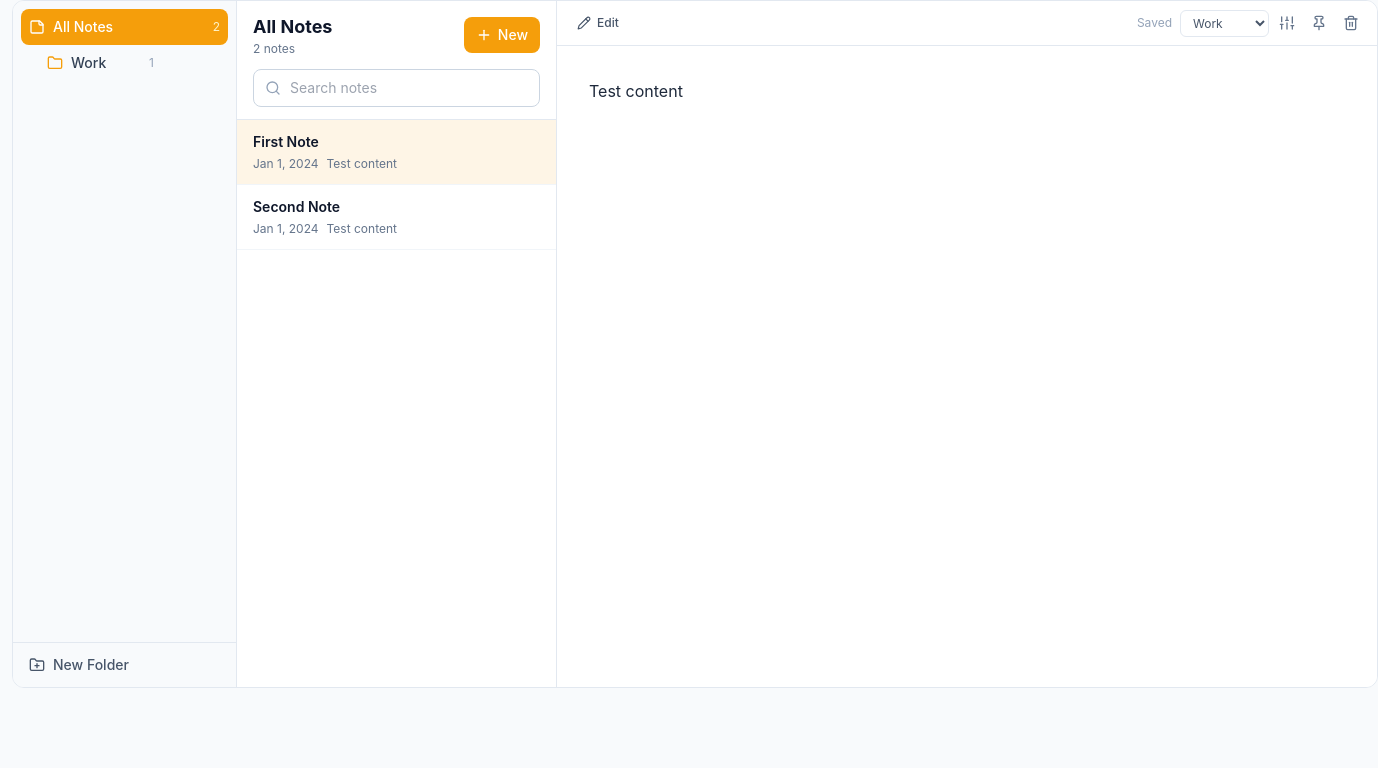
Test case: Notes page › should show only the notes in the selected folder
The image size is (1378, 768).
Expected: the text "First Note" is shown, [253,133,319,150]
Click the button "Work".
click(96, 63)  # box [47,47,145,79]
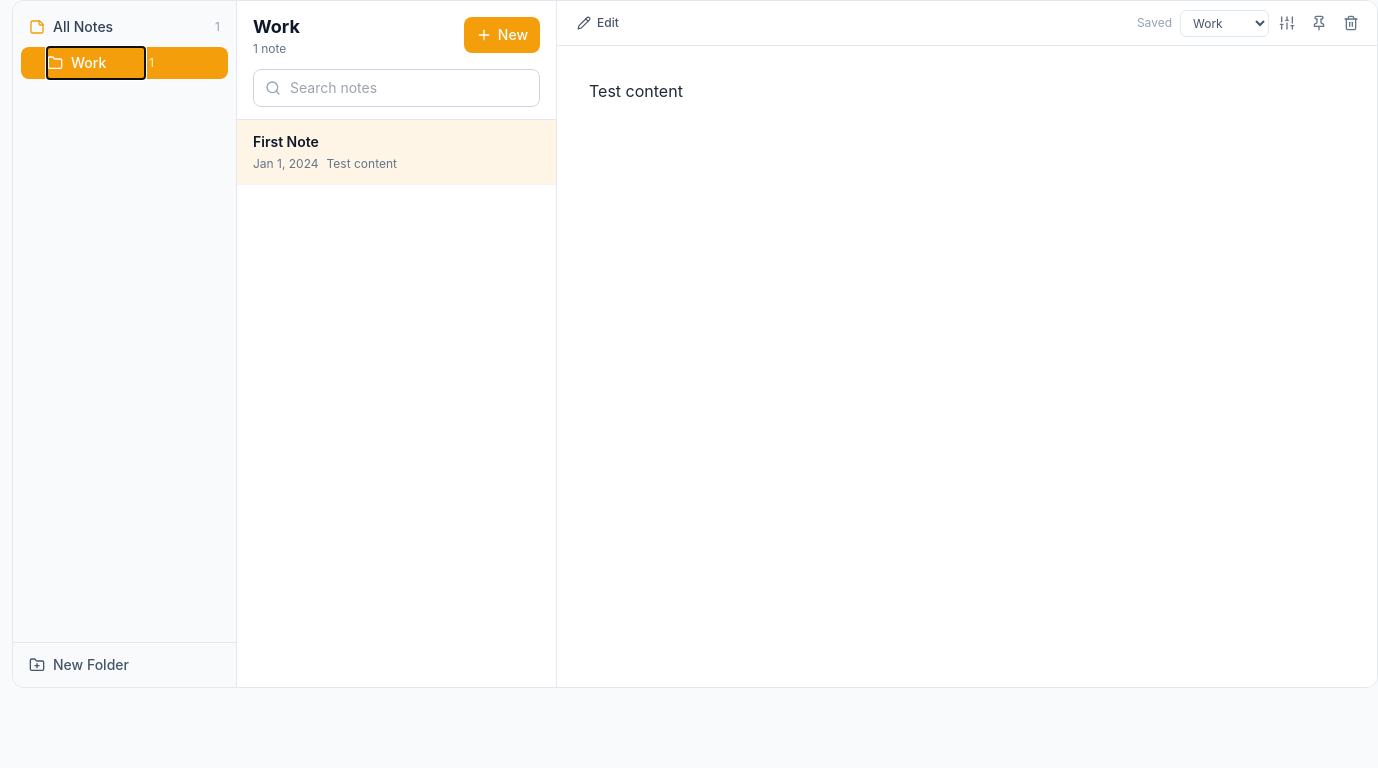
Expected: the text "First Note" is shown, [253,133,319,150]
Now the button "Second Note" is gone
